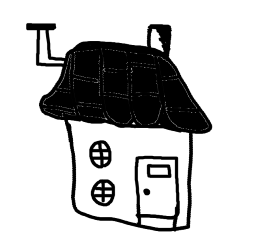chimney: (11, 10, 70, 67), (141, 11, 178, 60)
closed_window: (88, 176, 122, 213), (86, 135, 115, 171)
door: (127, 150, 185, 232)
shaded_roof: (35, 34, 225, 140)
wall: (60, 117, 197, 236)
